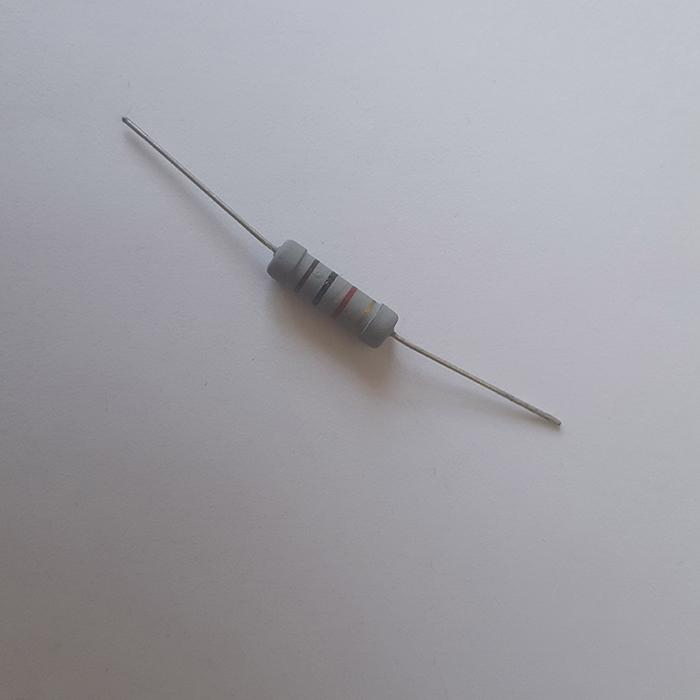resistor: (264, 237, 399, 348)
